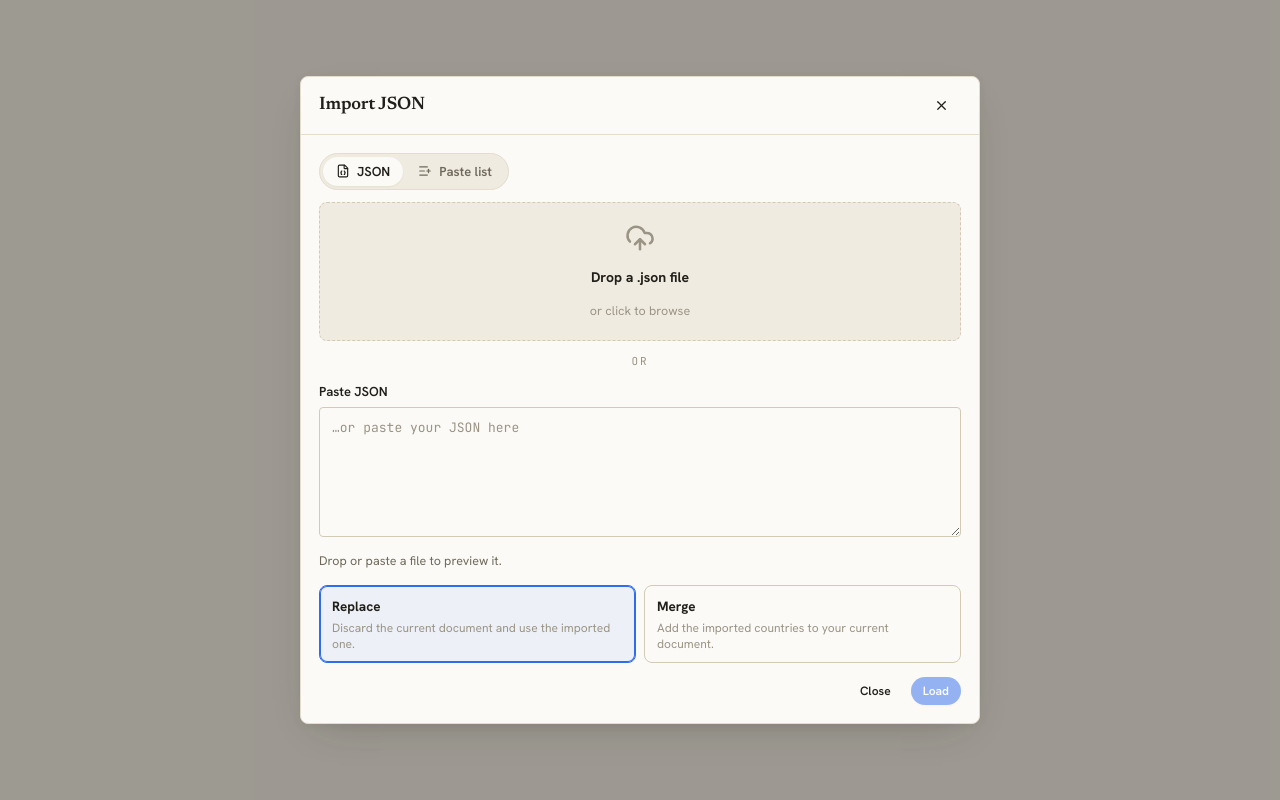
Test: <ImportModal> restyled flows › surfaces a parse error for malformed JSON and keeps Load disabled
Click the text box labelled "Paste JSON" at (640, 472), box x1=319 y1=407 x2=961 y2=537
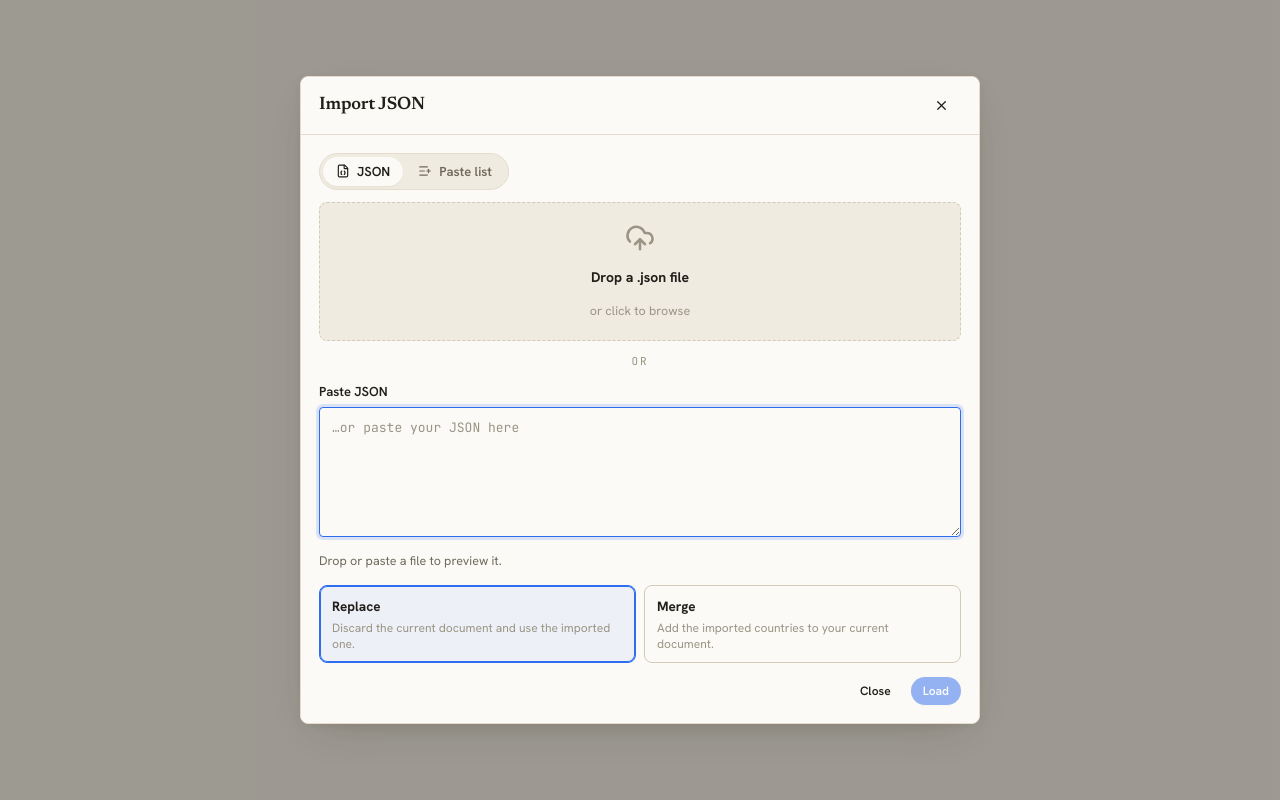
Type keys "{ not json"
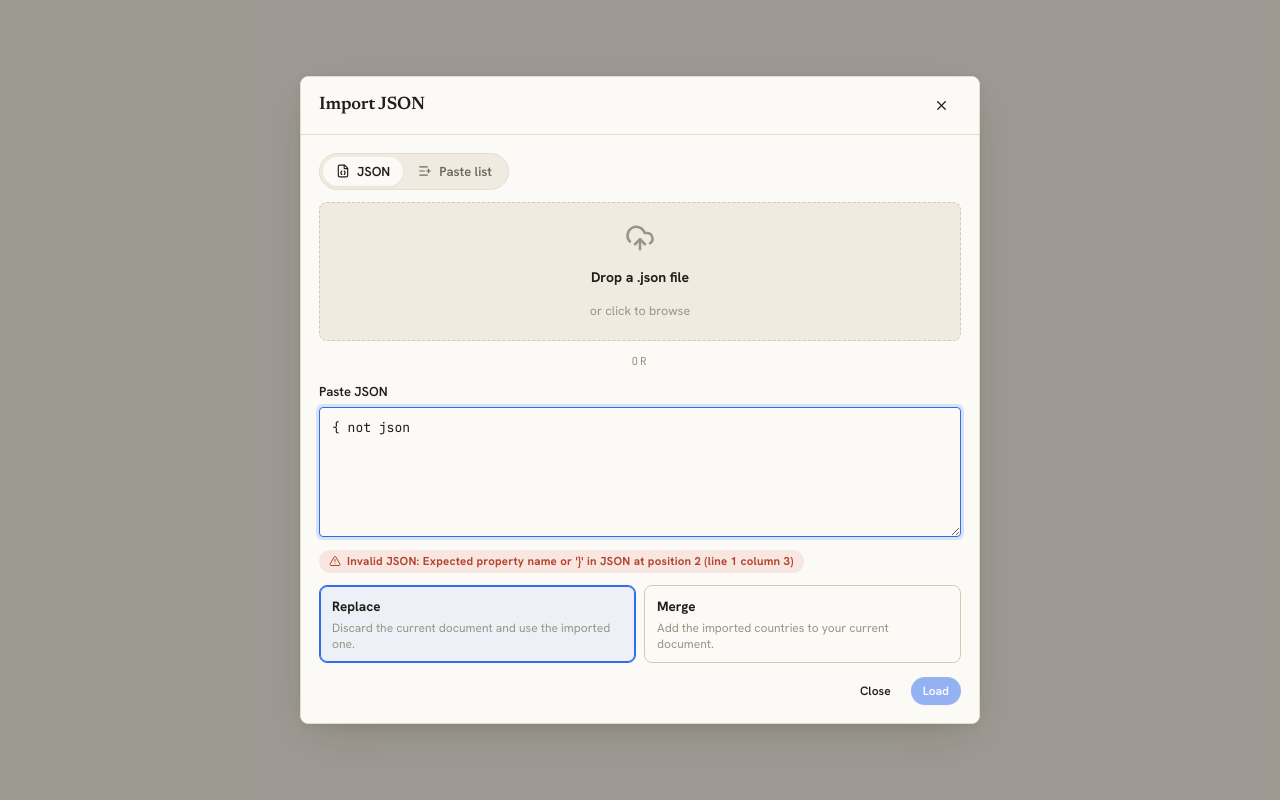
Expected: the button "Load" is disabled, x1=911 y1=677 x2=961 y2=705
Expected: the text "Invalid JSON" is shown, x1=347 y1=553 x2=794 y2=568
